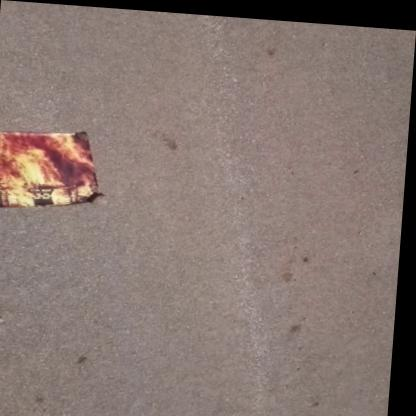fire-poster: (0, 123, 113, 218)
